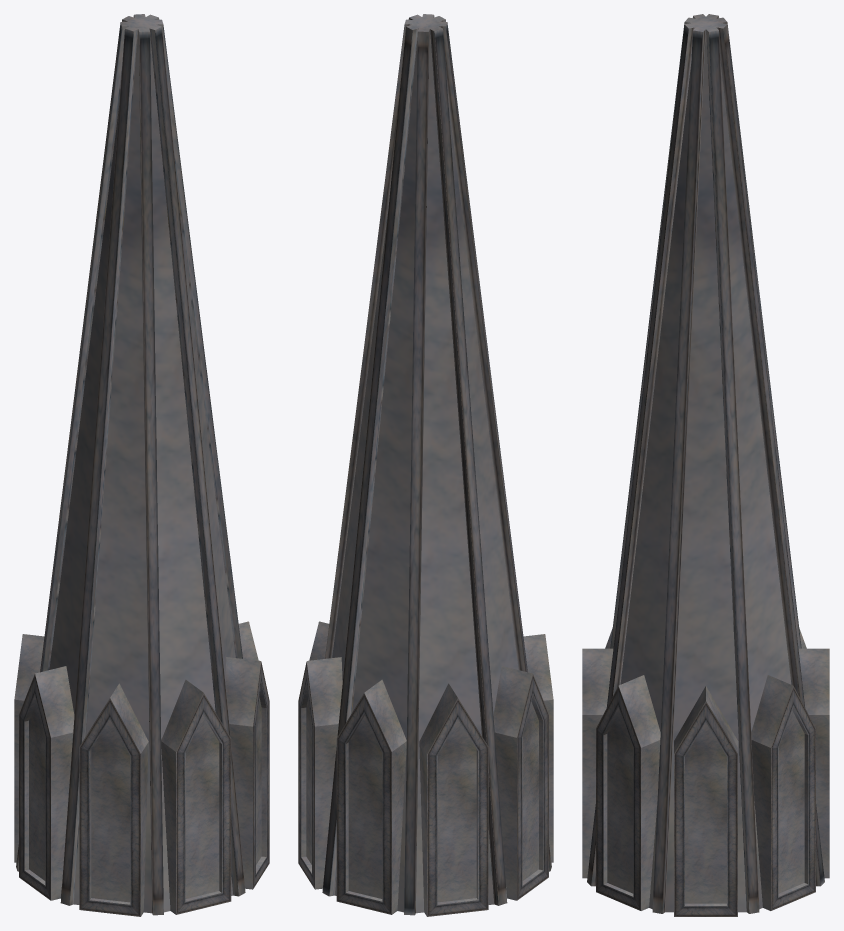
The model's file is spire_01.fbx.
3 renders of one model, left to right at view 1: azimuth 30°, elevation 25°; view 2: azimuth 150°, elevation 25°; view 3: azimuth 270°, elevation 25°, orthographic.
Visible parts, largest first — view 1: spire_01; view 2: spire_01; view 3: spire_01.
Part boxes in pixels (x1=…): spire_01: x1=14, y1=14, x2=269, y2=916; spire_01: x1=298, y1=14, x2=553, y2=916; spire_01: x1=582, y1=14, x2=829, y2=916.
Size of the model in its own units: 800 by 3001 by 800.
